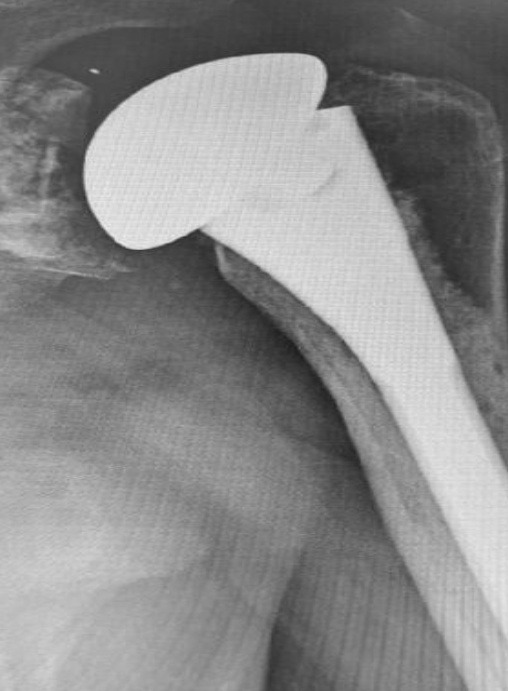Shoulder - Anotomical - Stryker: (66, 41, 420, 265)
